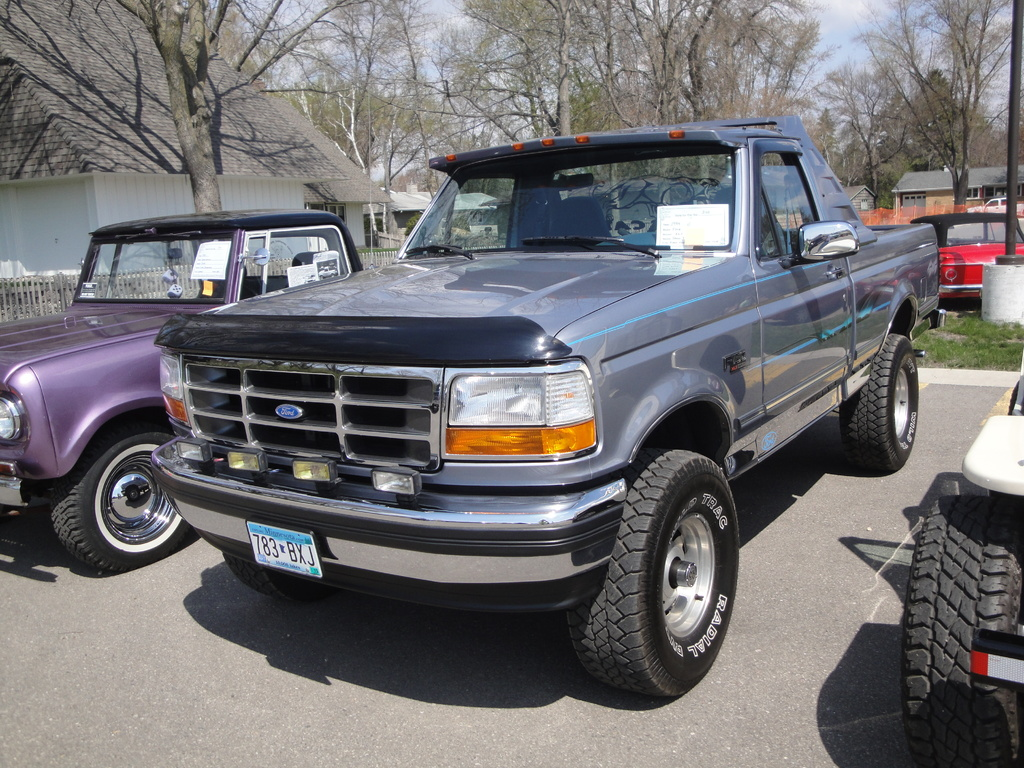mobil: (193, 140, 919, 707)
